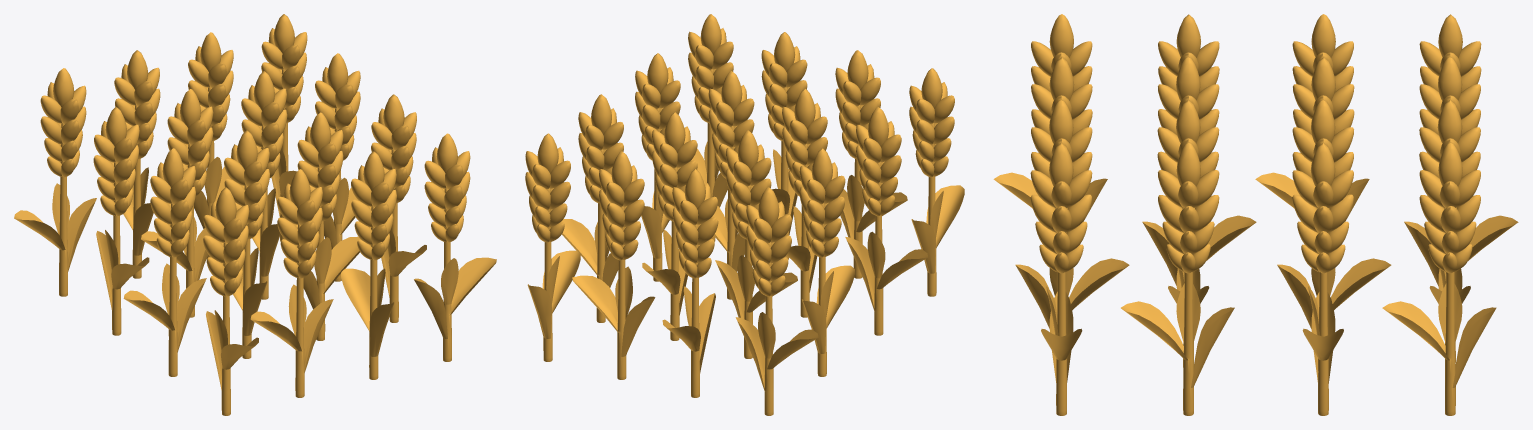
Rendered from Bugday.fbx.
3 renders of one model, left to right at view 1: azimuth 30°, elevation 25°; view 2: azimuth 150°, elevation 25°; view 3: azimuth 270°, elevation 25°, orthographic. The views are drawn at different scales.
Visible parts, largest first — view 1: Bugday.008, Bugday.010, Bugday.012, Bugday.003, Bugday.009, Bugday.004, Bugday.011, Bugday.014, Bugday.013, Bugday.002, Bugday.015, Bugday.005 (+4 smaller); view 2: Bugday.001, Bugday.012, Bugday.003, Bugday, Bugday.011, Bugday.004, Bugday.002, Bugday.007, Bugday.005, Bugday.006, Bugday.010, Bugday.013 (+4 smaller); view 3: Bugday.015, Bugday, Bugday.008, Bugday.007, Bugday.009, Bugday.006, Bugday.013, Bugday.002, Bugday.011, Bugday.004, Bugday.014, Bugday.001 (+4 smaller).
Part boxes in pixels (left/top/right/bottom): Bugday.008: left=414, top=133, right=496, bottom=361; Bugday.010: left=250, top=169, right=333, bottom=397; Bugday.012: left=123, top=148, right=206, bottom=376; Bugday.003: left=14, top=68, right=96, bottom=296; Bugday.009: left=341, top=151, right=396, bottom=379; Bugday.004: left=93, top=107, right=149, bottom=335; Bugday.011: left=203, top=187, right=258, bottom=415; Bugday.014: left=297, top=112, right=360, bottom=340; Bugday.013: left=224, top=130, right=269, bottom=358; Bugday.002: left=114, top=50, right=160, bottom=278; Bugday.015: left=371, top=94, right=426, bottom=322; Bugday.005: left=141, top=89, right=213, bottom=317; Bugday.001: left=572, top=151, right=655, bottom=379; Bugday.012: left=845, top=107, right=927, bottom=335; Bugday.003: left=735, top=187, right=818, bottom=415; Bugday: left=525, top=133, right=580, bottom=361; Bugday.011: left=909, top=68, right=964, bottom=296; Bugday.004: left=799, top=148, right=854, bottom=376; Bugday.002: left=662, top=169, right=718, bottom=397; Bugday.007: left=561, top=94, right=623, bottom=322; Bugday.005: left=715, top=130, right=797, bottom=358; Bugday.006: left=642, top=112, right=697, bottom=340; Bugday.010: left=835, top=50, right=907, bottom=278; Bugday.013: left=782, top=89, right=827, bottom=317; Bugday.015: left=1121, top=143, right=1234, bottom=415; Bugday: left=1382, top=143, right=1496, bottom=415; Bugday.008: left=1030, top=143, right=1092, bottom=415; Bugday.007: left=1292, top=143, right=1353, bottom=415; Bugday.009: left=1015, top=100, right=1129, bottom=328; Bugday.006: left=1277, top=100, right=1391, bottom=328; Bugday.013: left=1142, top=57, right=1256, bottom=285; Bugday.002: left=1404, top=57, right=1518, bottom=286; Bugday.011: left=993, top=14, right=1107, bottom=221; Bugday.004: left=1255, top=14, right=1369, bottom=221; Bugday.014: left=1157, top=100, right=1219, bottom=367; Bugday.001: left=1419, top=100, right=1480, bottom=362.
Size of the model in its own units: 174 by 118 by 207.
